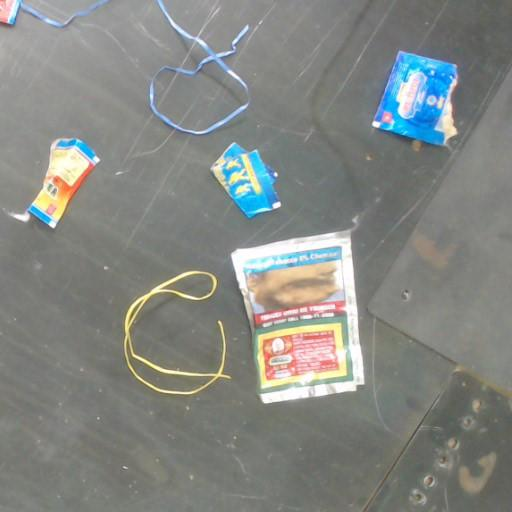conveyor belt: (0, 0, 511, 511)
packet: (232, 229, 364, 403), (372, 51, 457, 145), (11, 139, 99, 228), (212, 143, 280, 216)
thread: (149, 0, 248, 135), (124, 271, 230, 395), (17, 0, 109, 27)
